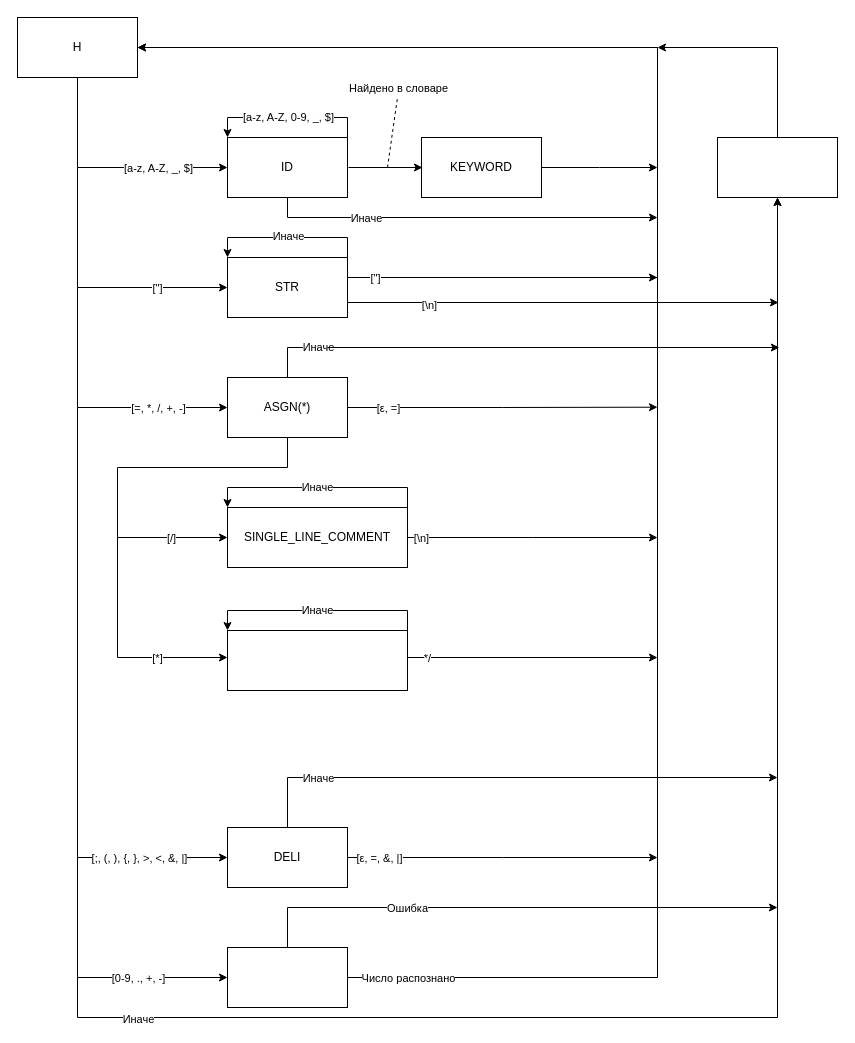
Image size: 855x1043. Some labels were removed from this diagram. The shapes that lost their labels are listed below. From the top down, each one's centre as x and y in pixels, then its label:
point 777,167: ERR
point 317,660: MULTI_LINE_COMMENT
point 287,977: NUMBER(*)
